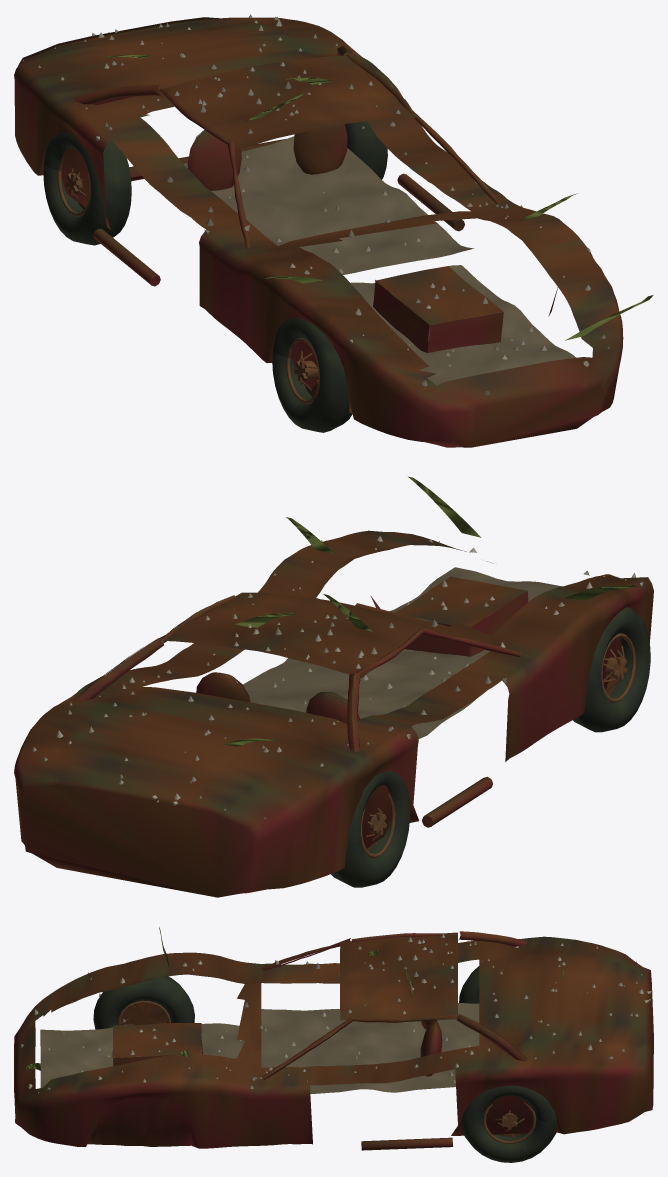
File: wreck-hull.glb
3 views of the same model, one above another, from view 1: azimuth 30°, elevation 25°; view 2: azimuth 150°, elevation 25°; view 3: azimuth 270°, elevation 25° (orthographic). The views are drawn at different scales.
Parts seen in each view (by area): view 1: wreck-hull; view 2: wreck-hull; view 3: wreck-hull.
Boxes of the visible parts, x1,y1,x2,y2 form: wreck-hull: (14,14,653,447); wreck-hull: (14,476,653,897); wreck-hull: (14,927,653,1162).
Bounding box in the file's own units: 2.04 × 1.18 × 4.34.
